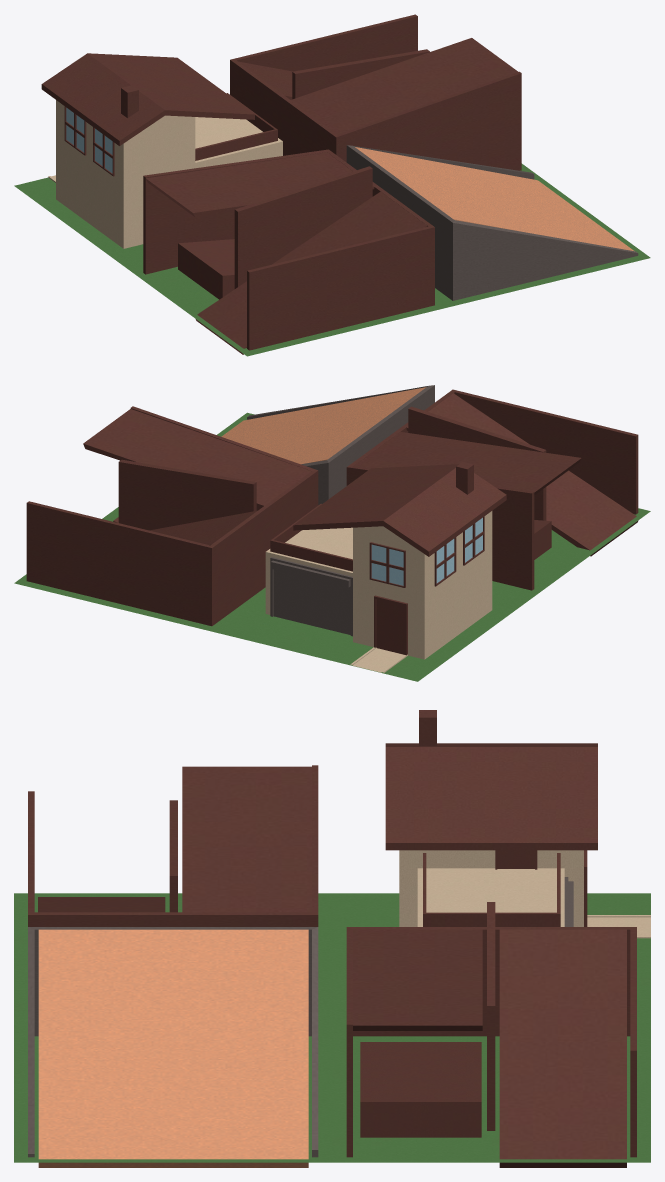
File: house4.obj
The picture shows the model from 3 angles, top to bottom: view 1: azimuth 30°, elevation 25°; view 2: azimuth 150°, elevation 25°; view 3: azimuth 270°, elevation 25°; orthographic projection. The views are drawn at different scales.
Visible parts, largest first — view 1: Cube.004_Cube.001_Cube.004_Cube.005, Cube.004_Cube.002_Cube.004_Cube.004, House.001_Plane.004, Cube.006_Cube.001, Plane.008_Plane.001, Plane.002_Plane.004, Plane.009_Plane.001, Cube.006_Cube.068, Cube.007_Cube.069; view 2: Cube.004_Cube.002_Cube.004_Cube.004, House.001_Plane.004, Cube.004_Cube.001_Cube.004_Cube.005, Cube.006_Cube.001, Plane.002_Plane.004, Plane.008_Plane.001, Plane.007_Plane.002, Cube.004_Cube.067, Cube.006_Cube.068, Cube.007_Cube.069; view 3: Cube.006_Cube.001, Cube.004_Cube.002_Cube.004_Cube.004, House.001_Plane.004, Cube.004_Cube.001_Cube.004_Cube.005, Plane.007_Plane.002, Plane.002_Plane.004, Plane.009_Plane.001, Plane.008_Plane.001.
Part boxes in pixels (box(x1,y1,x2,y2)): Cube.004_Cube.001_Cube.004_Cube.005: box(143, 149, 434, 354); Cube.004_Cube.002_Cube.004_Cube.004: box(230, 14, 521, 170); House.001_Plane.004: box(41, 53, 282, 248); Cube.006_Cube.001: box(346, 145, 638, 300); Plane.008_Plane.001: box(131, 266, 448, 356); Plane.002_Plane.004: box(14, 177, 143, 270); Plane.009_Plane.001: box(435, 172, 650, 306); Cube.006_Cube.068: box(64, 106, 86, 155); Cube.007_Cube.069: box(93, 127, 114, 176); Cube.004_Cube.002_Cube.004_Cube.004: box(26, 406, 318, 626); House.001_Plane.004: box(265, 462, 506, 672); Cube.004_Cube.001_Cube.004_Cube.005: box(346, 389, 638, 590); Cube.006_Cube.001: box(221, 385, 434, 504); Plane.002_Plane.004: box(216, 586, 533, 681); Plane.008_Plane.001: box(492, 508, 650, 596); Plane.007_Plane.002: box(14, 507, 265, 632); Cube.004_Cube.067: box(369, 542, 405, 587); Cube.006_Cube.068: box(434, 537, 456, 586); Cube.007_Cube.069: box(463, 516, 484, 565); Cube.006_Cube.001: box(28, 927, 318, 1167); Cube.004_Cube.002_Cube.004_Cube.004: box(346, 902, 636, 1167); House.001_Plane.004: box(385, 710, 650, 938); Cube.004_Cube.001_Cube.004_Cube.005: box(28, 765, 318, 926); Plane.007_Plane.002: box(332, 1028, 650, 1162); Plane.002_Plane.004: box(332, 893, 650, 1027); Plane.009_Plane.001: box(14, 1028, 332, 1162); Plane.008_Plane.001: box(14, 893, 332, 1027).
Size of the model in its own units: 40 by 14.6 by 40.
